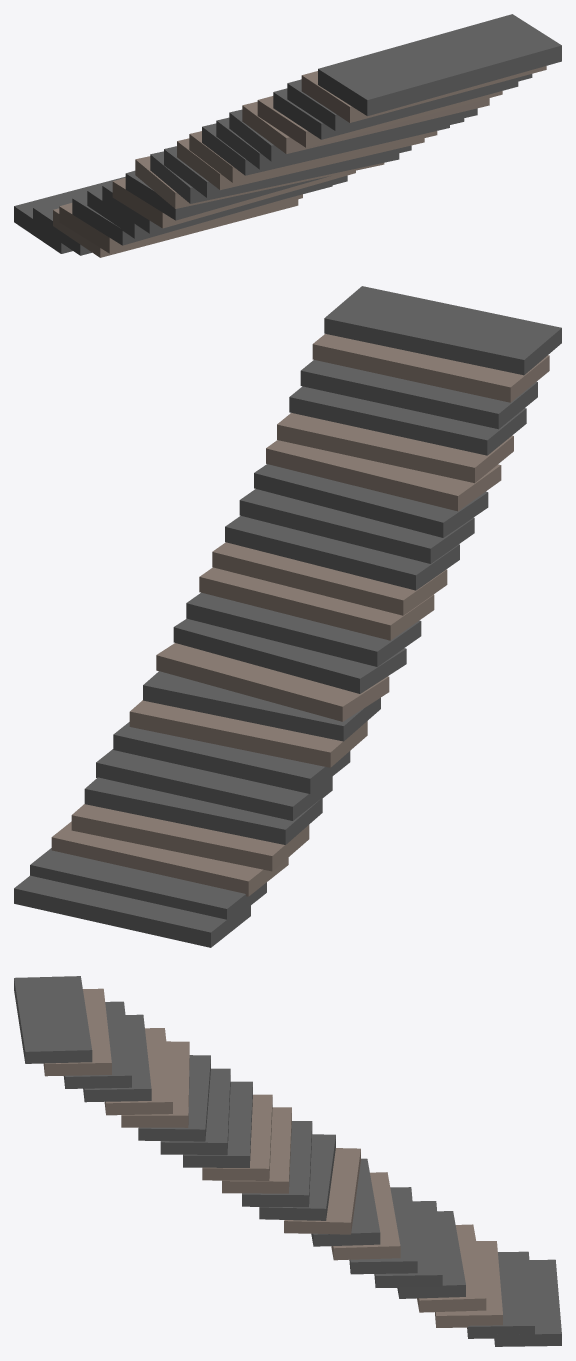
File: stairs_hillside.fbx
The picture shows the model from 3 angles, top to bottom: view 1: azimuth 30°, elevation 25°; view 2: azimuth 150°, elevation 25°; view 3: azimuth 270°, elevation 25°; orthographic projection. The views are drawn at different scales.
Visible parts, largest first — view 1: stairs; view 2: stairs; view 3: stairs.
Part boxes in pixels (left/top/right/bottom): stairs: left=14, top=14, right=561, bottom=257; stairs: left=14, top=286, right=561, bottom=947; stairs: left=14, top=976, right=561, bottom=1346.
Bounding box in the file's own units: 1.94 × 3.23 × 5.5.
